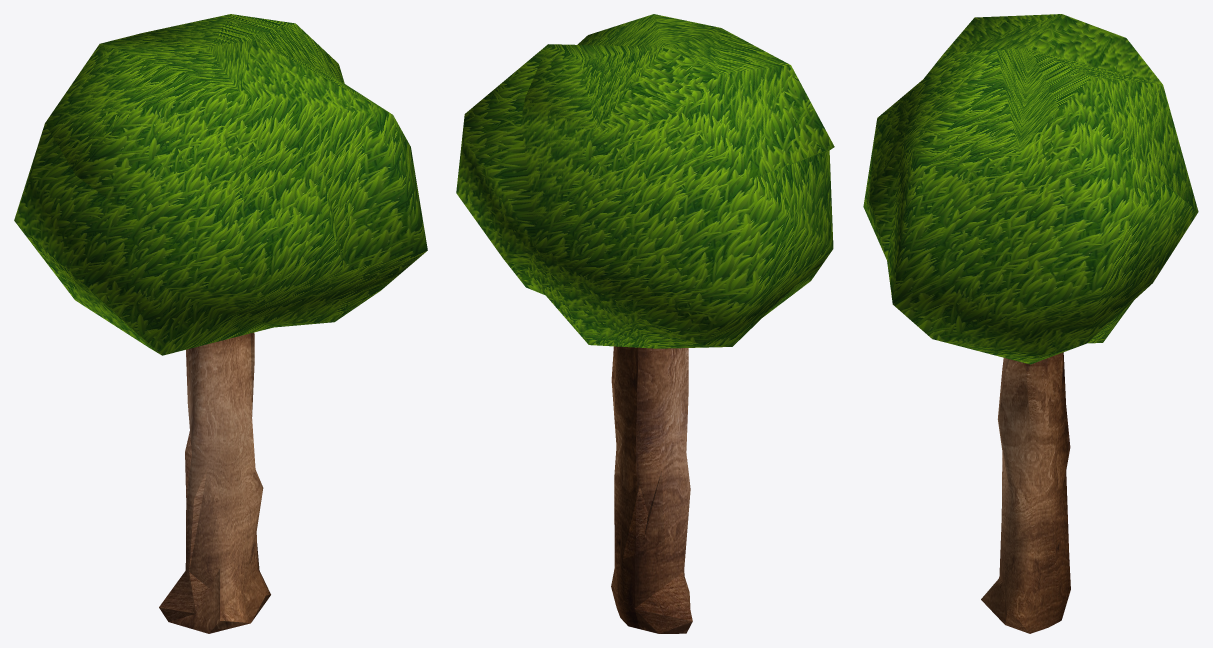
The model's file is tree3 1.fbx.
3 renders of one model, left to right at view 1: azimuth 30°, elevation 25°; view 2: azimuth 150°, elevation 25°; view 3: azimuth 270°, elevation 25°, orthographic. The views are drawn at different scales.
Parts seen in each view (by area): view 1: Box001, Cylinder001; view 2: Box001, Cylinder001; view 3: Box001, Cylinder001.
Part boxes in pixels (box(x1,y1,x2,y2)): Box001: box(14, 14, 427, 355); Cylinder001: box(159, 332, 270, 633); Box001: box(456, 14, 834, 348); Cylinder001: box(611, 346, 692, 633); Box001: box(863, 14, 1198, 364); Cylinder001: box(981, 352, 1070, 633).
Size of the model in its own units: 128 by 221 by 117.
Materials: 2 (2 with a texture image).
